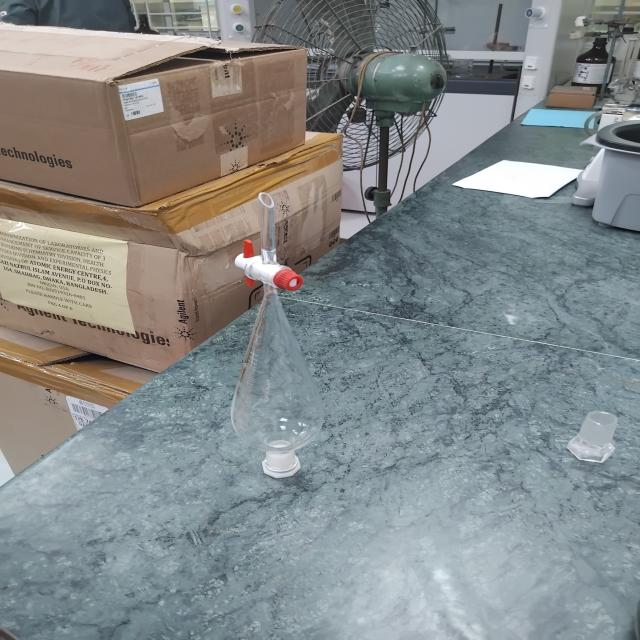Separating_Funnel: (192, 175, 379, 504)
